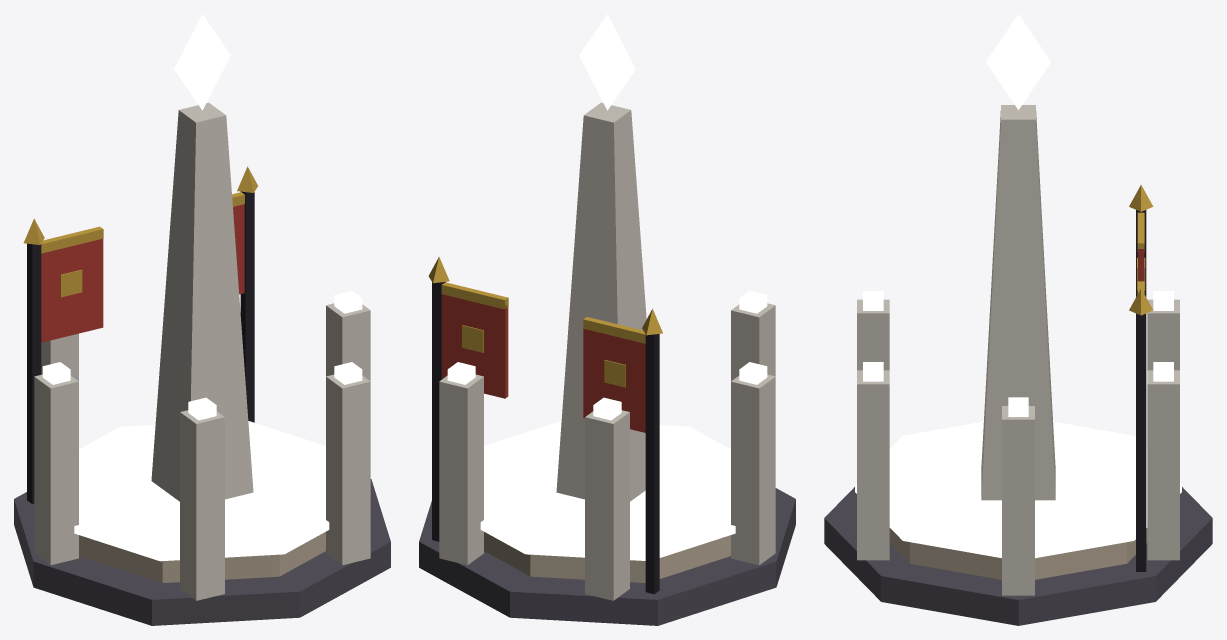
File: hero_forge_t3.glb
The picture shows the model from 3 angles, left to right: view 1: azimuth 30°, elevation 25°; view 2: azimuth 150°, elevation 25°; view 3: azimuth 270°, elevation 25°; orthographic projection.
Parts seen in each view (by area): view 1: body, glow; view 2: body, glow; view 3: body, glow.
Boxes of the visible parts, x1,y1,x2,y2 form: body: [14, 102, 390, 625]; glow: [42, 14, 362, 561]; body: [419, 102, 795, 625]; glow: [447, 14, 767, 560]; body: [824, 105, 1212, 625]; glow: [855, 14, 1181, 558].
Bounding box in the file's own units: 1.9 × 2.86 × 1.9.
